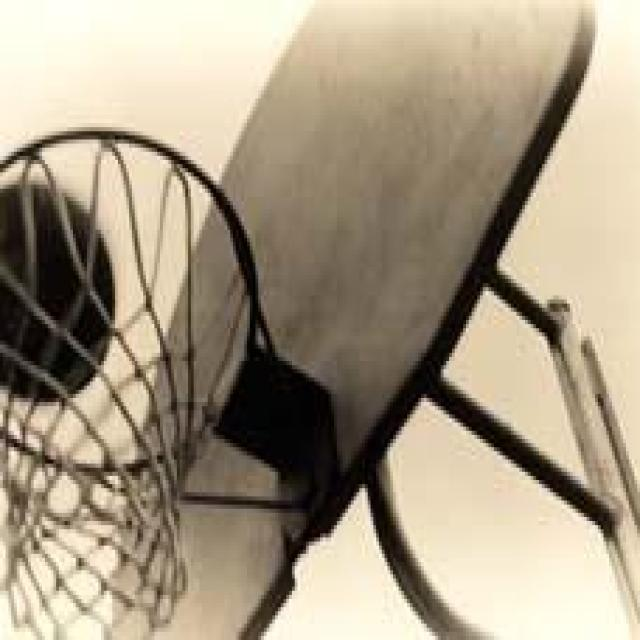hoop: (0, 123, 348, 640)
